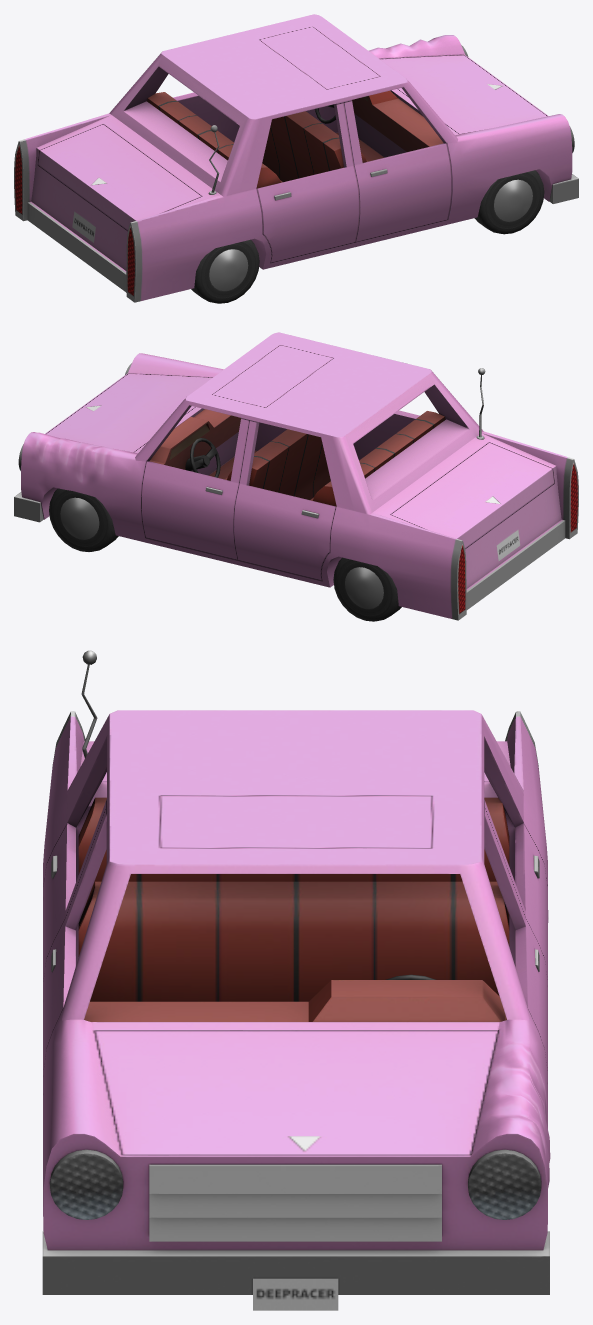
Rendered from f1_july_car_01_with_wheel.dae.
The picture shows the model from 3 angles, top to bottom: view 1: azimuth 30°, elevation 25°; view 2: azimuth 150°, elevation 25°; view 3: azimuth 270°, elevation 25°; orthographic projection. The views are drawn at different scales.
Visible parts, largest first — view 1: july-car-body, july-car-wheels; view 2: july-car-body, july-car-wheels; view 3: july-car-body.
Boxes of the visible parts, <box> form: july-car-body: <box>14,14,578,302</box>; july-car-wheels: <box>191,170,544,303</box>; july-car-body: <box>14,332,578,620</box>; july-car-wheels: <box>49,488,401,621</box>; july-car-body: <box>42,650,550,1310</box>.
Bounding box in the file's own units: 0.3361 × 0.1677 × 0.1282.
2 materials, 2 textured.
